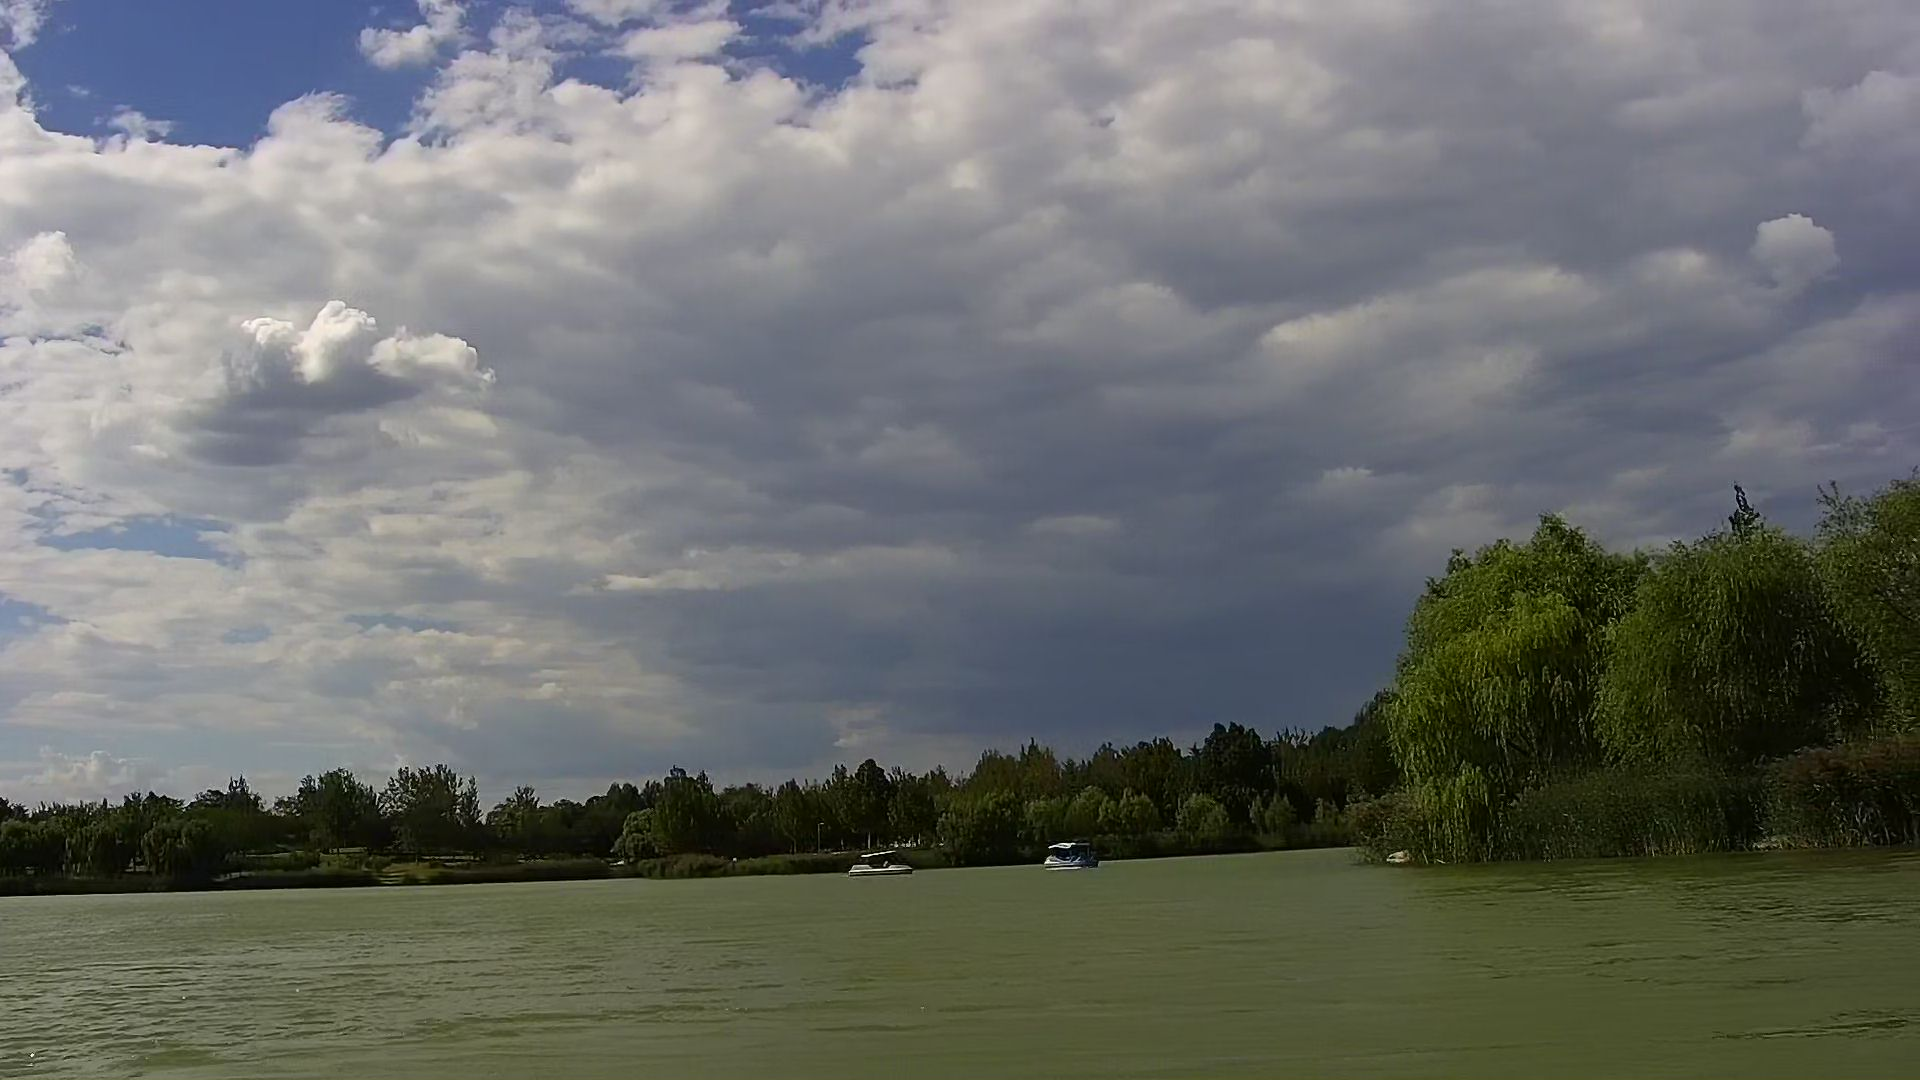boat: (845, 849, 916, 880), (1042, 839, 1098, 872)
rock: (1386, 851, 1416, 862)
